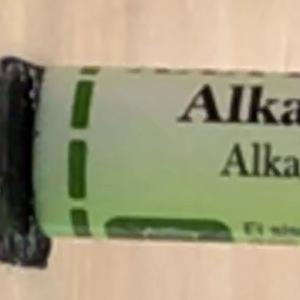keyword: (147, 62, 270, 83)
